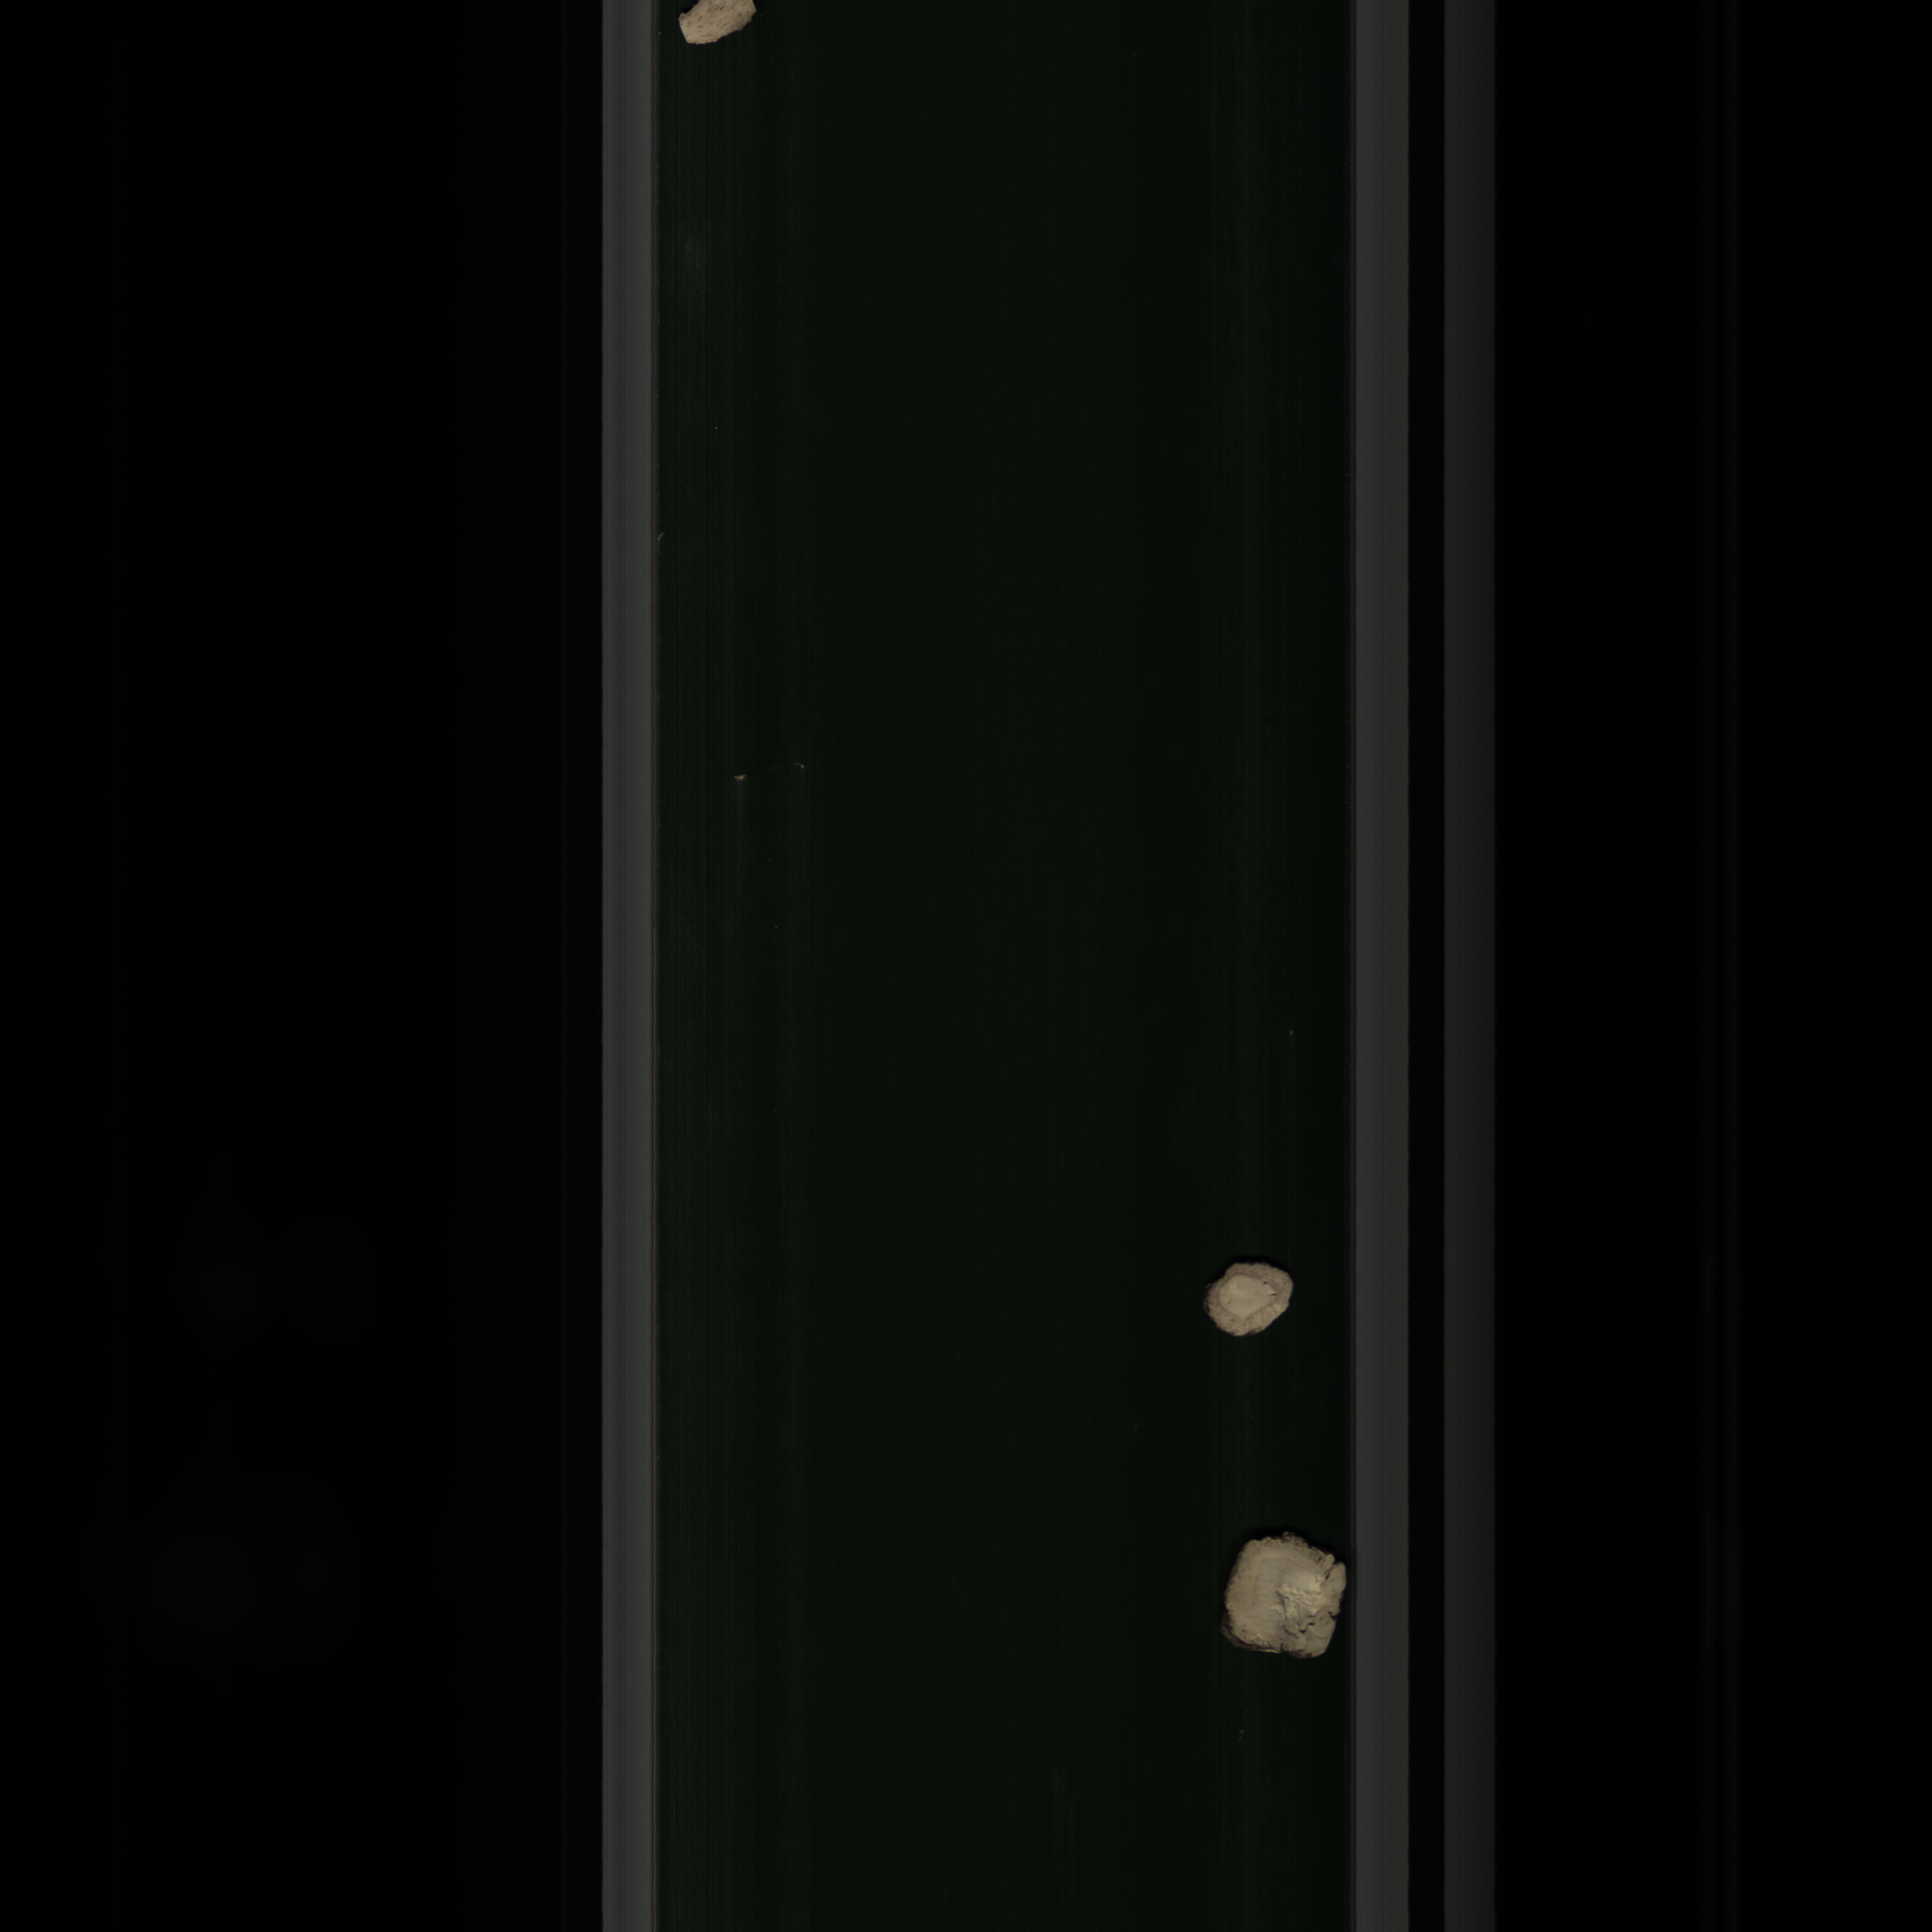distortion: (1215, 1523, 1353, 1675)
